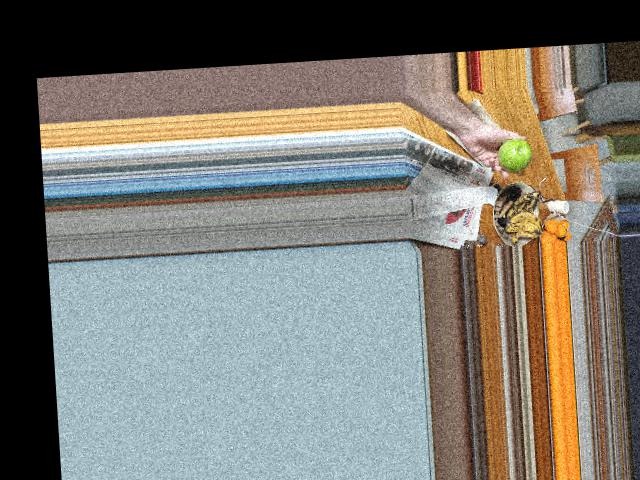apple: (494, 137, 533, 173)
